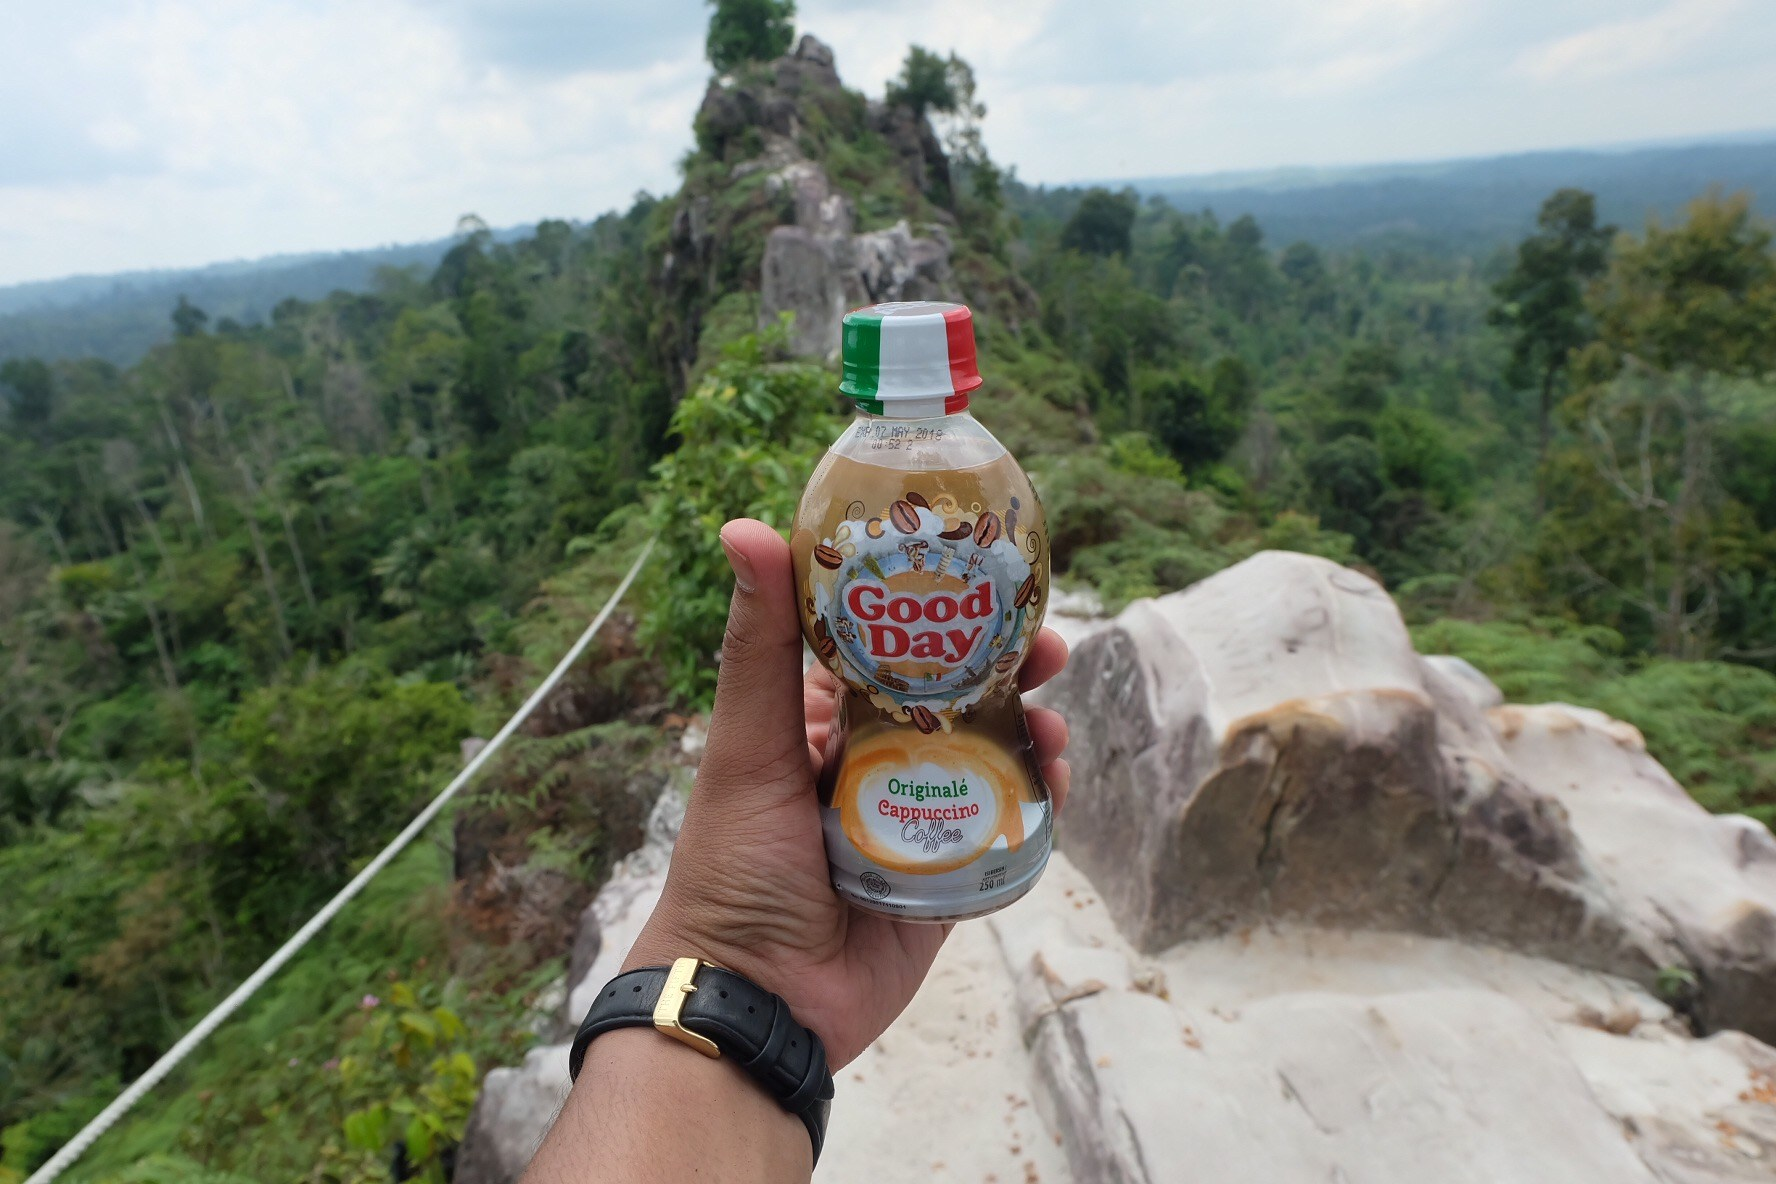botol: (794, 285, 1054, 914), (794, 299, 1054, 914), (803, 285, 1054, 914)
